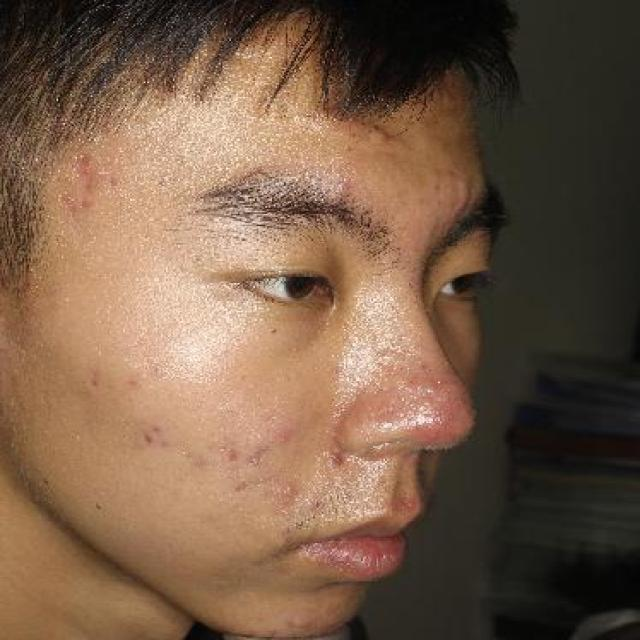dark spot: (142, 425, 168, 452)
nodules: (301, 103, 402, 157)
